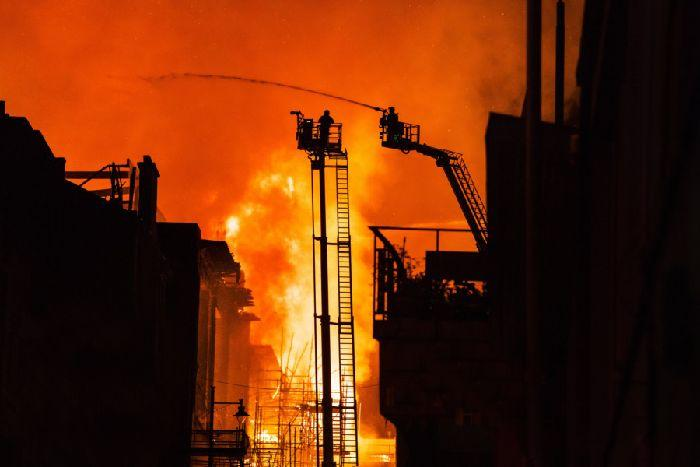Fire: (237, 153, 381, 467)
